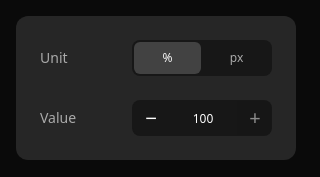
Test case: App Component › should increment value by 0.1 when clicking +
Replace the text in the field with "10" at (203,118), box [169, 100, 237, 136]
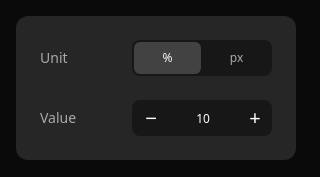
Click the button "+" at (255,118), box [237, 100, 273, 136]
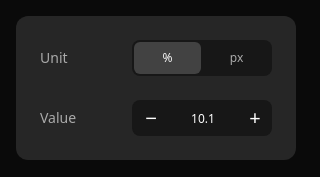
Check: the field holds "10.1", box [169, 100, 237, 136]
